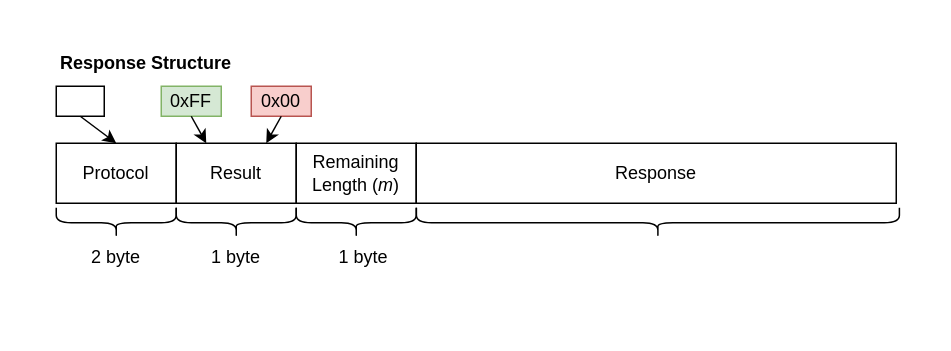
This 951x351 diagram has some shape labels left out. Here are the shapes that lost their labels. From the top down, the centre of each, then its label:
point (79, 100): RE
point (657, 222): m byte
